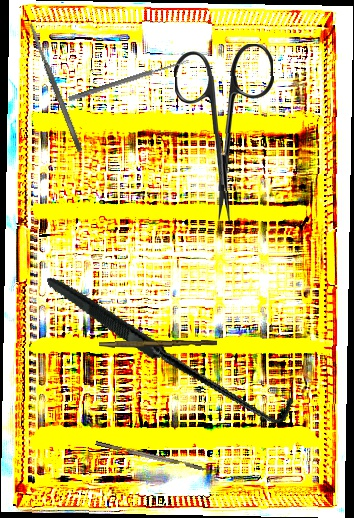Chopper: (95, 435, 221, 476)
Hook Surgical: (46, 217, 299, 478)
Iris Scissors: (173, 43, 277, 224)
Scalpel Handle: (98, 337, 218, 351)
Spatula Surgical: (27, 22, 84, 153)
Surgical Spoon: (68, 57, 190, 103)
